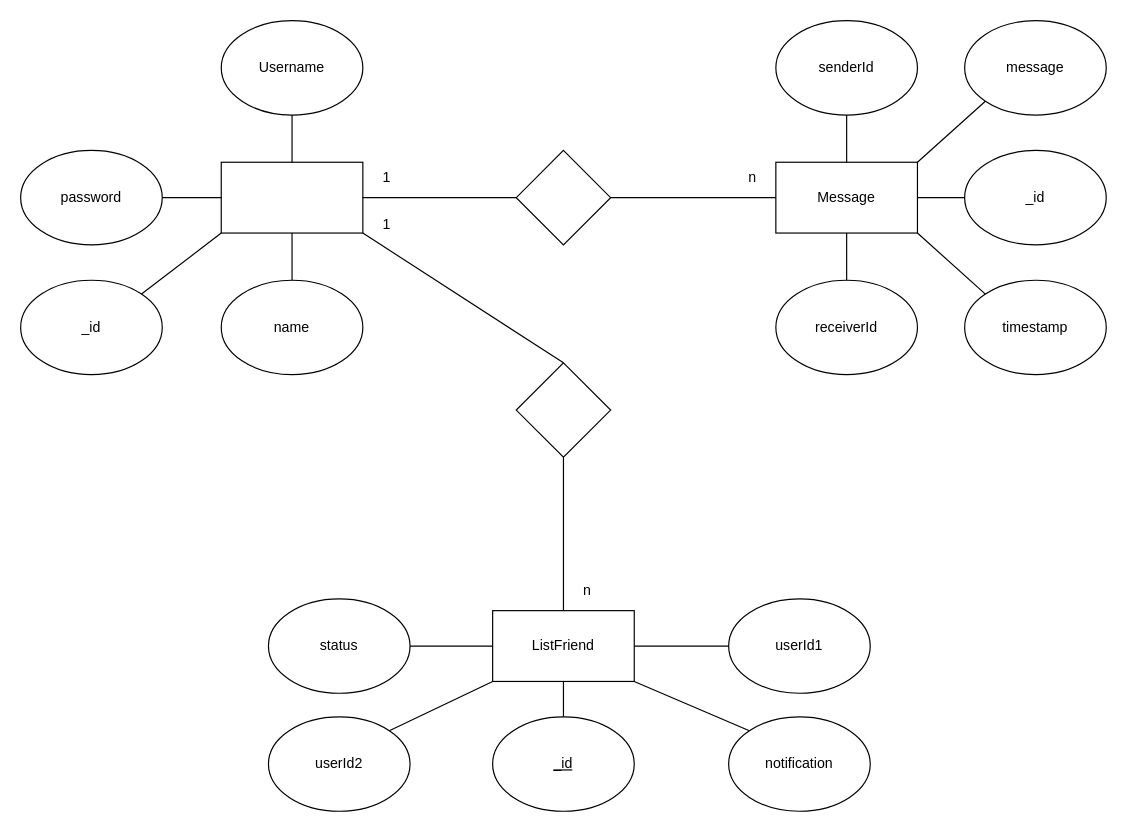
Image size: 1127x832. Some labels were removed from this diagram. The centre of each missing label's shape, as x and y in pixels:
có: the point at 563,409
Gửi: the point at 563,197
User: the point at 291,197
